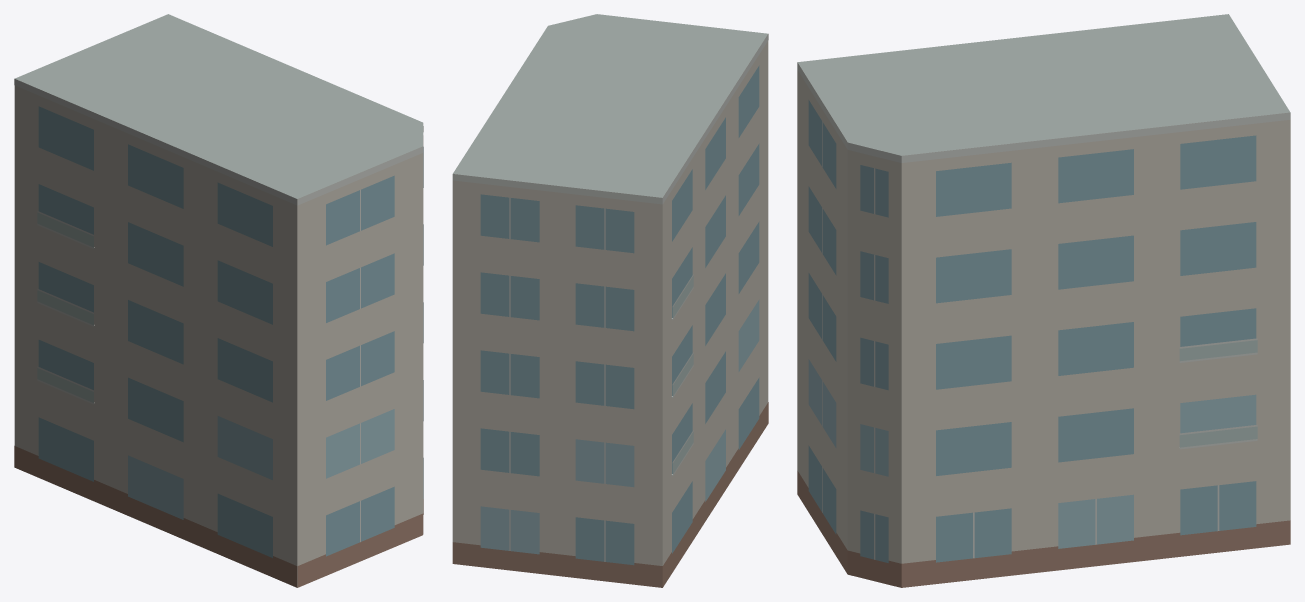
Rendered from survey-upis-33045287.glb.
The picture shows the model from 3 angles, left to right: view 1: azimuth 30°, elevation 25°; view 2: azimuth 150°, elevation 25°; view 3: azimuth 270°, elevation 25°; orthographic projection. The views are drawn at different scales.
Parts seen in each view (by area): view 1: survey-upis-33045287.tmp; view 2: survey-upis-33045287.tmp; view 3: survey-upis-33045287.tmp.
Boxes of the visible parts, box(x1,y1,x2,y2) form: survey-upis-33045287.tmp: box(14, 14, 423, 587); survey-upis-33045287.tmp: box(452, 14, 768, 587); survey-upis-33045287.tmp: box(797, 14, 1290, 587).
Size of the model in its own units: 10.22 by 14.5 by 15.01.
